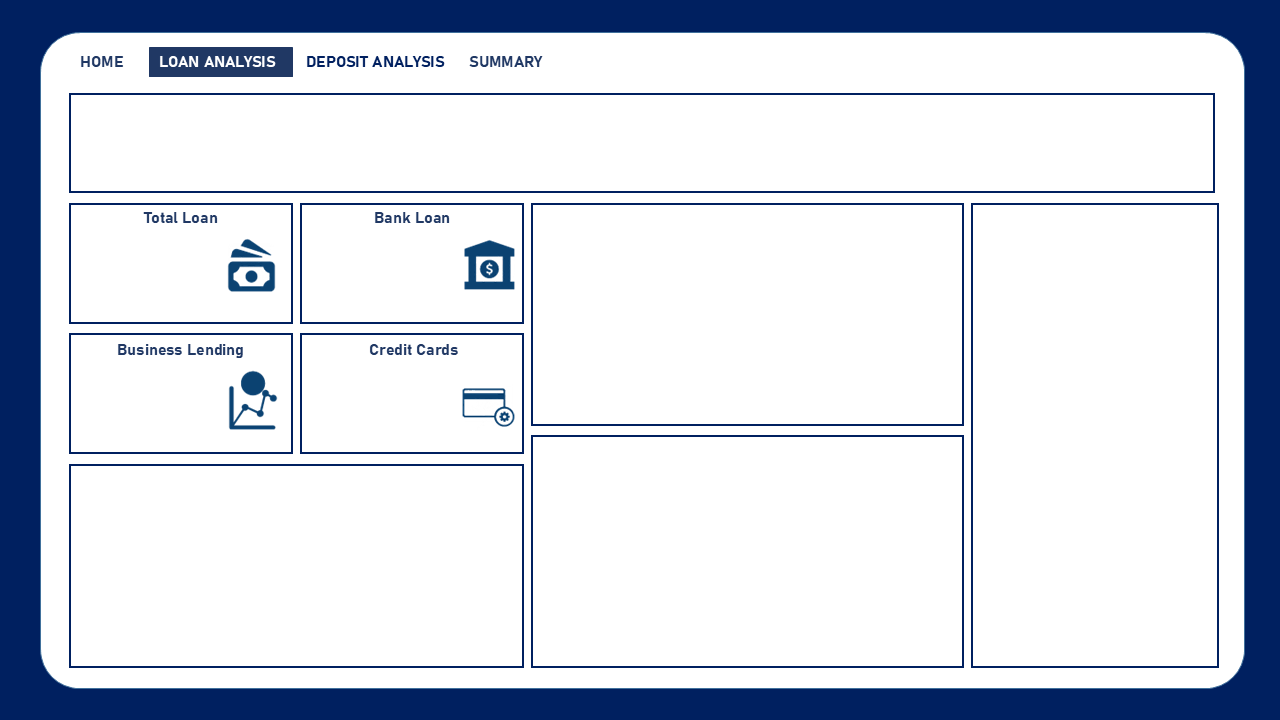

Layout of this report page (visuals, bound fields, positions):
{"tool":"powerbi","page":{"name":"Loan Analysis","canvas":[1920,1080],"ordinal":1},"visuals":[{"type":"slicer","fields":{"Values":["banking_risk banking-realtionships.Banking Relationship"]},"box":[115.5,144,494,135.7],"z":0,"group":"g1"},{"type":"cardVisual","fields":{"Data":["Dax_Measres.Total Loan"]},"box":[106.8,342,247.9,132.1],"z":0},{"type":"slicer","fields":{"Values":["banking_risk gender.Gender"]},"box":[722.6,144,494,135.7],"z":1000,"group":"g1"},{"type":"cardVisual","fields":{"Data":["Dax_Measres.Bank Loan"]},"box":[452.4,342,247.9,132.1],"z":1000},{"type":"slicer","fields":{"Values":["banking_risk investment-advisiors.Investment Advisor"]},"box":[1329.8,144,499.5,148.4],"z":2000,"group":"g1"},{"type":"cardVisual","fields":{"Data":["Dax_Measres.Business Lending"]},"box":[106.8,539.3,247.9,130.3],"z":2000},{"type":"cardVisual","fields":{"Data":["Dax_Measres.Credit Cards Balance"]},"box":[452.4,539.3,247.9,139.3],"z":3000},{"type":"donutChart","fields":{"Y":["Dax_Measres.Bank Loan"],"Category":["banking_risk customer_table.Income Band"]},"box":[113,708.1,677.8,298.6],"z":4000},{"type":"clusteredColumnChart","fields":{"Category":["banking_risk banking-realtionships.Banking Relationship"],"Y":["Dax_Measres.Bank Loan"]},"box":[790.8,296.8,660.5,354.7],"z":5000},{"type":"treemap","fields":{"Values":["Sum(banking_risk customer_table.Bank Loans)"],"Group":["banking_risk customer_table.Nationality"]},"box":[790.8,651.5,658.7,354.7],"z":6000},{"type":"clusteredBarChart","title":"Lending Portfolio by Engagement","fields":{"Category":["banking_risk customer_table.Engagement Timeframe"],"Y":["Dax_Measres.Bank Loan","Dax_Measres.Total Loan","Dax_Measres.Business Lending","Dax_Measres.Credit Cards Balance"]},"box":[1451.3,296.8,390.9,709.4],"z":7000},{"type":"group","id":"g1","title":"Group 1","box":[115.5,144,1713.7,148.4],"z":8000}]}

Visuals, with their boxes in screenshot pixels (x1, y1, x2, y2), scaled from the page's 1920x1080 canvas onto the 1280x720 screenshot:
slicer - banking_risk banking-realtionships.Banking Relationship: [77, 96, 406, 186]
cardVisual - Dax_Measres.Total Loan: [71, 228, 236, 316]
slicer - banking_risk gender.Gender: [482, 96, 811, 186]
cardVisual - Dax_Measres.Bank Loan: [302, 228, 467, 316]
slicer - banking_risk investment-advisiors.Investment Advisor: [887, 96, 1220, 195]
cardVisual - Dax_Measres.Business Lending: [71, 360, 236, 446]
cardVisual - Dax_Measres.Credit Cards Balance: [302, 360, 467, 452]
donutChart - Dax_Measres.Bank Loan x banking_risk customer_table.Income Band: [75, 472, 527, 671]
clusteredColumnChart - banking_risk banking-realtionships.Banking Relationship x Dax_Measres.Bank Loan: [527, 198, 968, 434]
treemap - Sum(banking_risk customer_table.Bank Loans) x banking_risk customer_table.Nationality: [527, 434, 966, 671]
"Lending Portfolio by Engagement" clusteredBarChart: [968, 198, 1228, 671]
"Group 1" group: [77, 96, 1219, 195]
